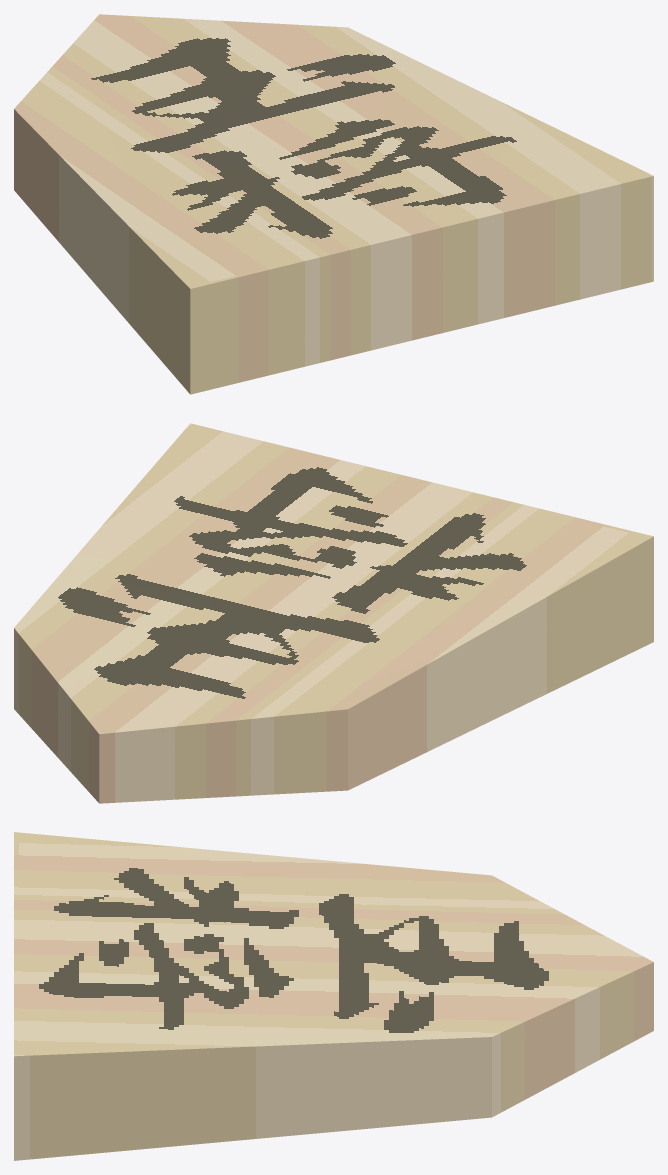
The model's file is 01b6_Gyokusho.glb.
3 renders of one model, top to bottom at view 1: azimuth 30°, elevation 25°; view 2: azimuth 150°, elevation 25°; view 3: azimuth 270°, elevation 25°, orthographic.
Parts seen in each view (by area): view 1: part_0; view 2: part_0; view 3: part_0.
Boxes of the visible parts, x1,y1,x2,y2 form: part_0: [14, 14, 653, 394]; part_0: [14, 423, 653, 803]; part_0: [14, 832, 653, 1160].
Bounding box in the file's own units: 0.0296 × 0.00644 × 0.0357.
Materials: 1 (1 with a texture image).
